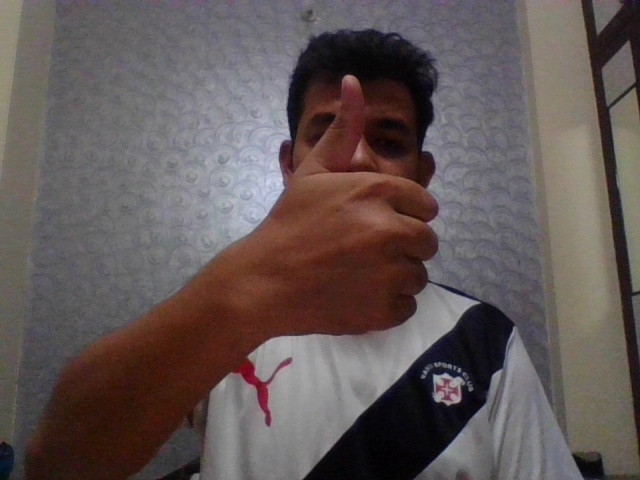ThumbsUp: (261, 70, 441, 341)
